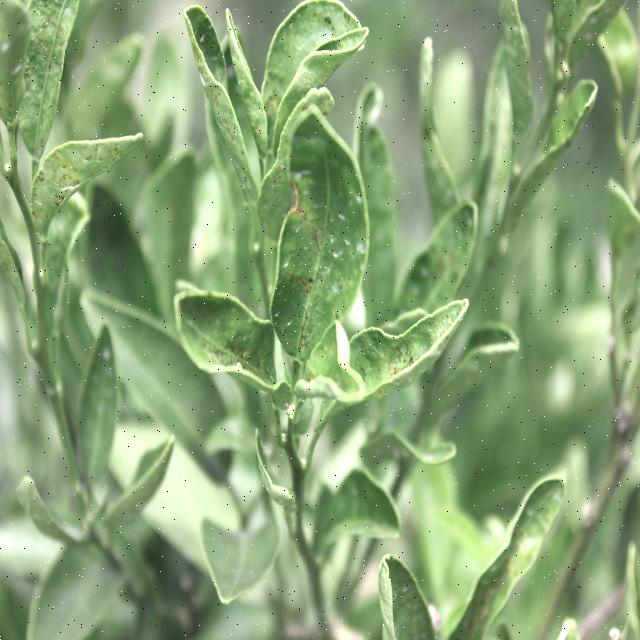canker: (190, 9, 258, 210), (26, 134, 135, 232), (287, 165, 341, 347), (15, 4, 76, 137), (354, 322, 447, 407), (463, 537, 536, 640), (203, 313, 265, 380), (417, 241, 472, 290)
